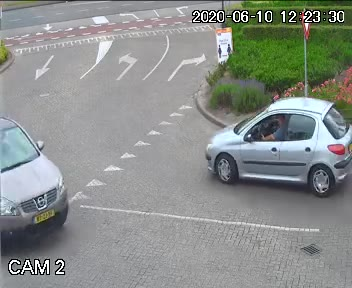car: (206, 92, 348, 198), (0, 112, 83, 244)
